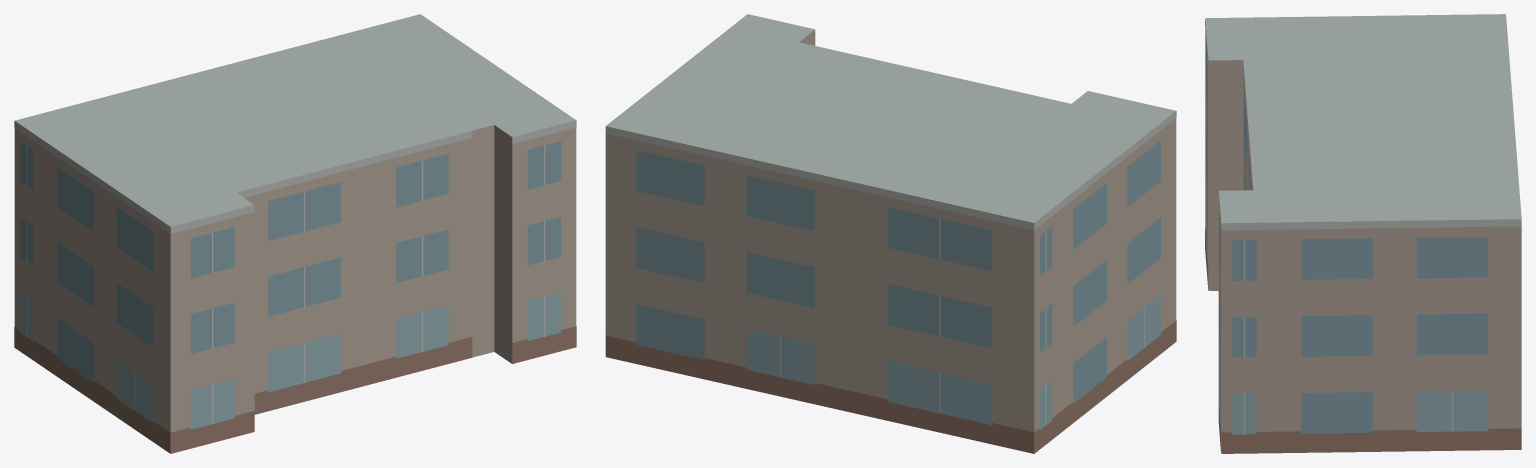
File: survey-upis-33046762.glb
3 renders of one model, left to right at view 1: azimuth 30°, elevation 25°; view 2: azimuth 150°, elevation 25°; view 3: azimuth 270°, elevation 25°, orthographic.
Visible parts, largest first — view 1: survey-upis-33046762.tmp; view 2: survey-upis-33046762.tmp; view 3: survey-upis-33046762.tmp.
Boxes of the visible parts, x1,y1,x2,y2 form: survey-upis-33046762.tmp: [14, 14, 576, 453]; survey-upis-33046762.tmp: [605, 14, 1176, 453]; survey-upis-33046762.tmp: [1205, 14, 1521, 453].
Bounding box in the file's own units: 15.18 × 7.8 × 9.71.
